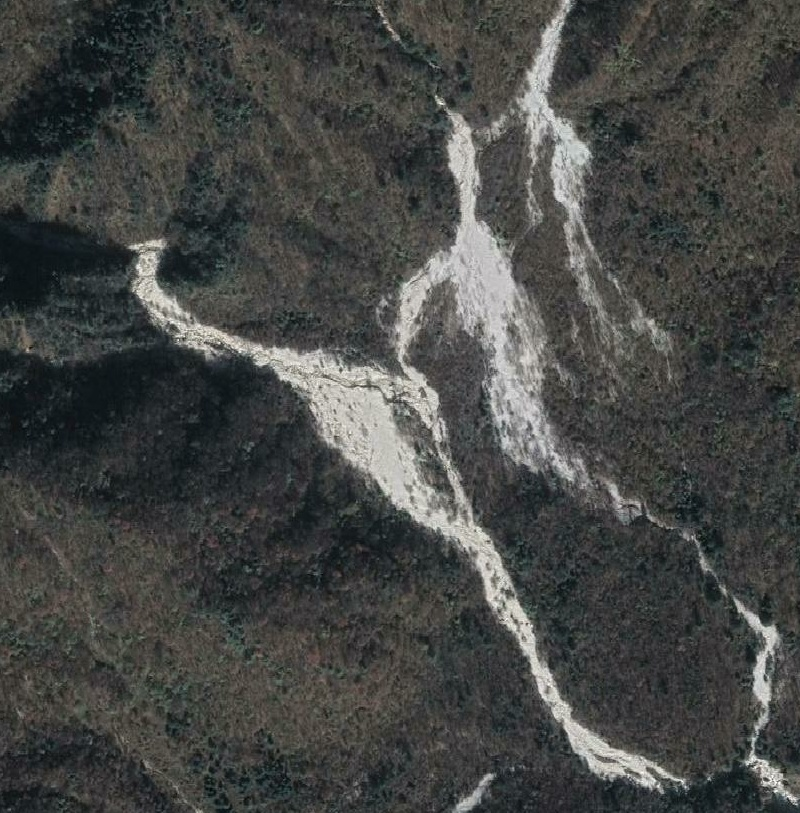slope: (113, 232, 695, 798), (396, 96, 643, 532), (495, 0, 668, 394)
